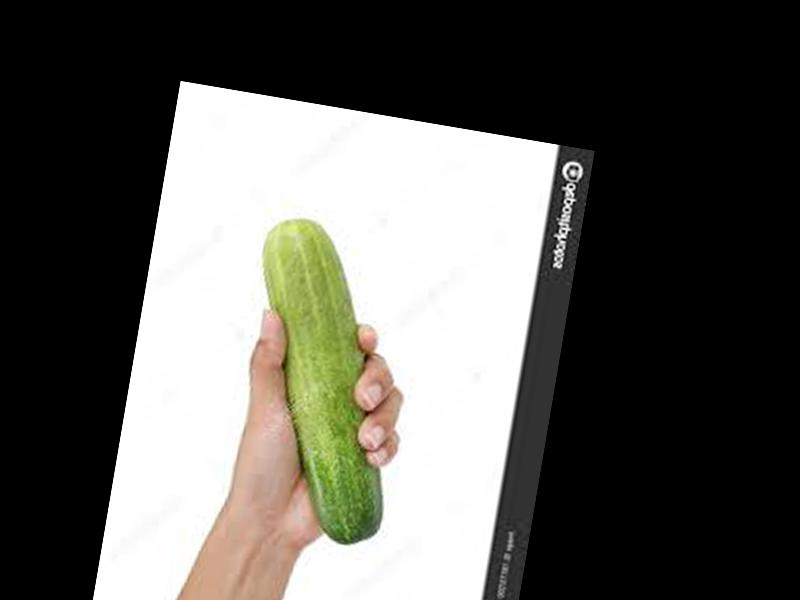Cucumber: (214, 214, 426, 550)
